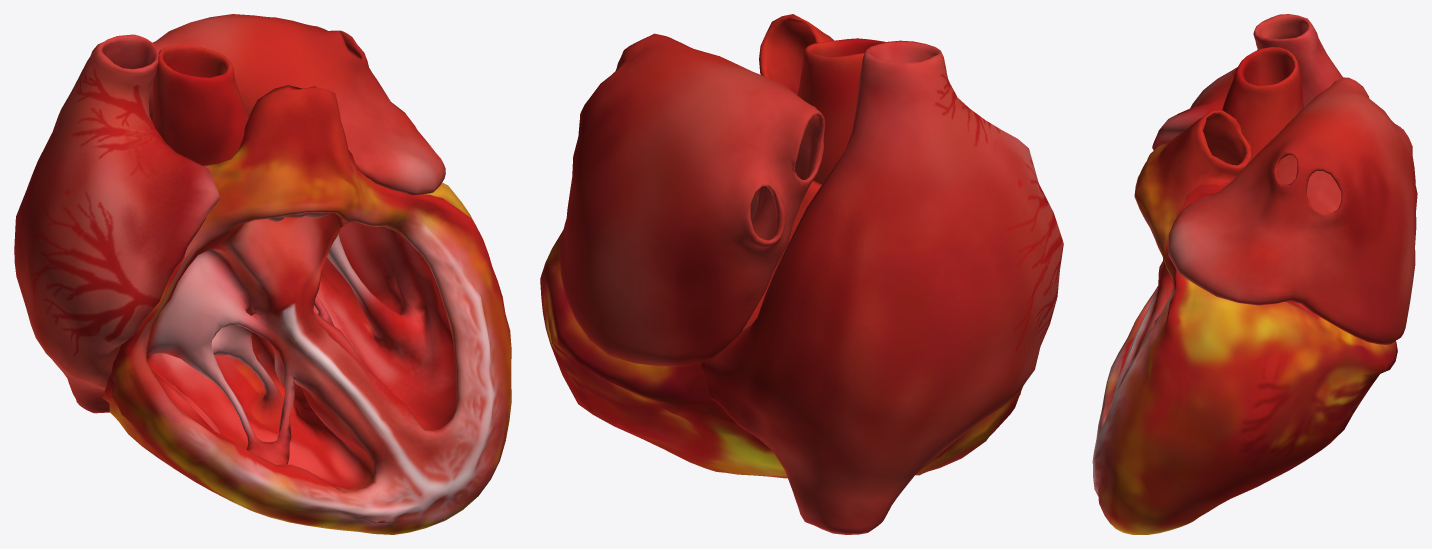
The model's file is FinalHeart.dae.
3 renders of one model, left to right at view 1: azimuth 30°, elevation 25°; view 2: azimuth 150°, elevation 25°; view 3: azimuth 270°, elevation 25°, orthographic. The views are drawn at different scales.
Parts seen in each view (by area): view 1: Heart_New; view 2: Heart_New; view 3: Heart_New.
Part boxes in pixels (x1,y1,x2,y2): Heart_New: (14,14,511,534); Heart_New: (540,14,1063,534); Heart_New: (1092,14,1417,534).
Size of the model in its own units: 0.1093 by 0.0821 by 0.1151.
Materials: 3 (3 with a texture image).
